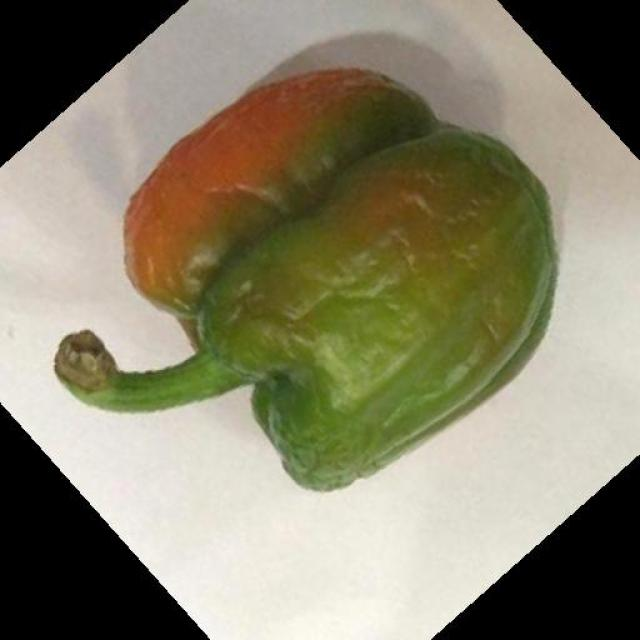Stale_Capsicum: (129, 82, 507, 463)
